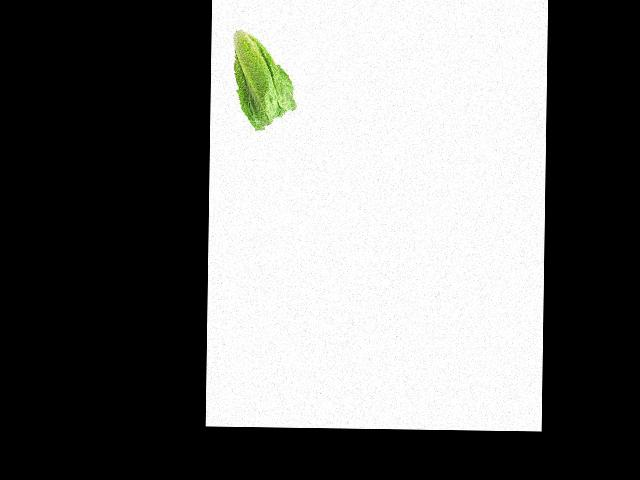lettuce: (210, 38, 303, 147)
